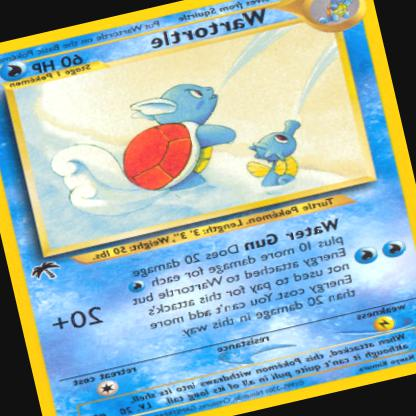Wartortle: (71, 66, 258, 218)
